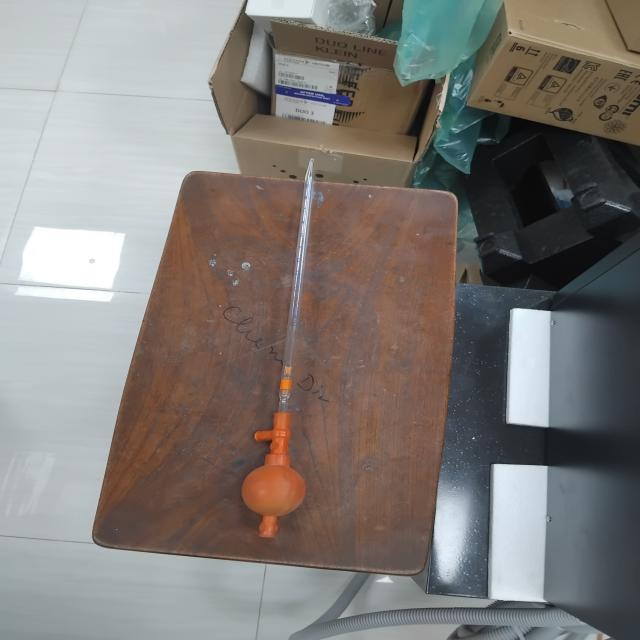Volumetric_Pipet: (217, 114, 365, 568)
